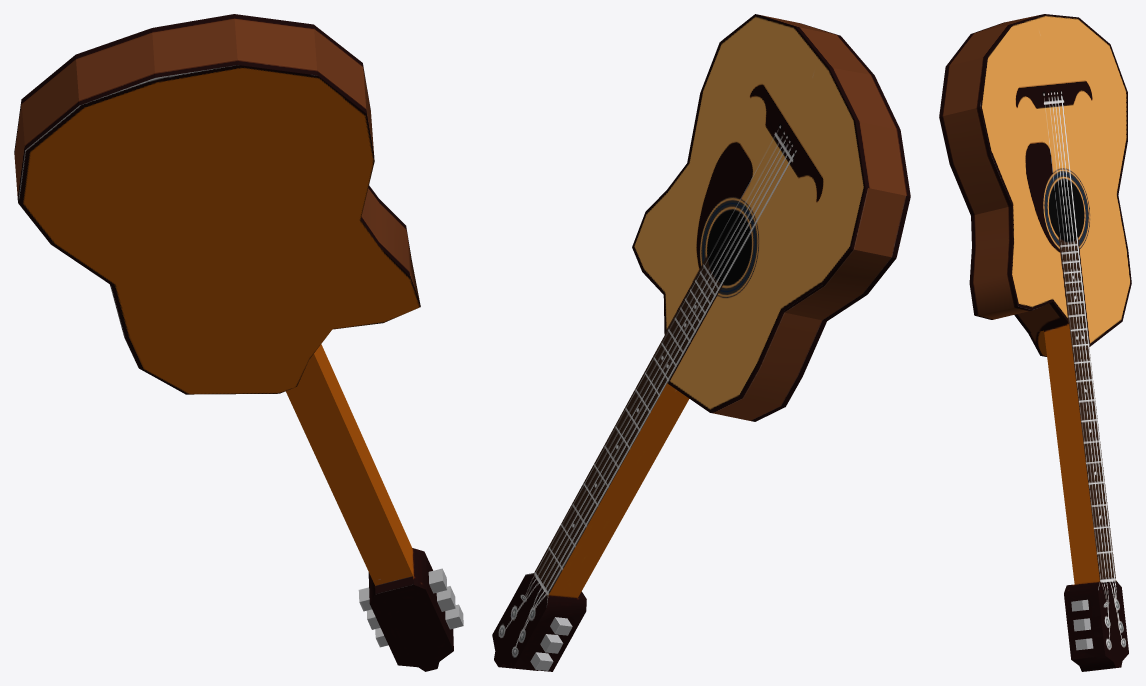
The model's file is guitarra3_000192.obj.
3 views of the same model, side by side, from view 1: azimuth 30°, elevation 25°; view 2: azimuth 150°, elevation 25°; view 3: azimuth 270°, elevation 25° (orthographic). The views are drawn at different scales.
Parts seen in each view (by area): view 1: Guitarra_2:pPlane4; view 2: Guitarra_2:pPlane4; view 3: Guitarra_2:pPlane4.
Boxes of the visible parts, bbox=[...] form: Guitarra_2:pPlane4: bbox=[14, 14, 463, 671]; Guitarra_2:pPlane4: bbox=[492, 14, 910, 671]; Guitarra_2:pPlane4: bbox=[939, 14, 1131, 671].
Size of the model in its own units: 7.39 by 11.79 by 3.68.
